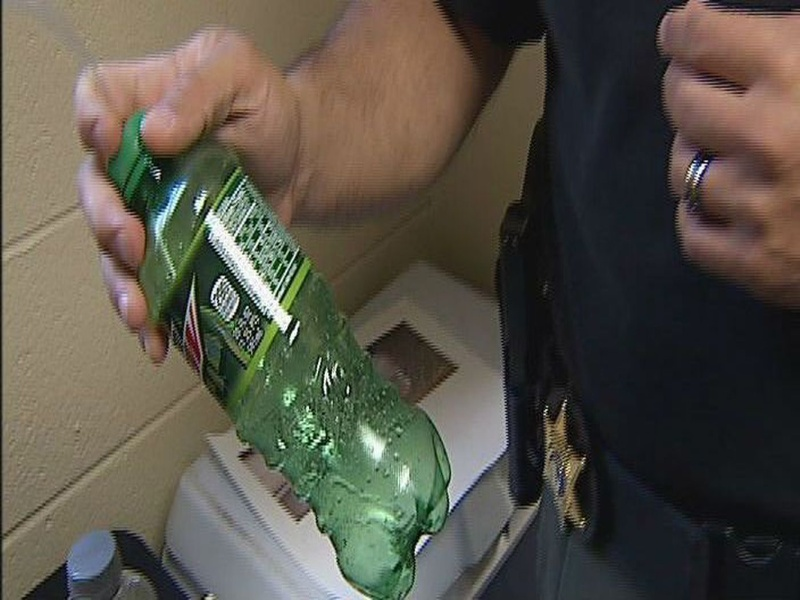Plastic bottle: (80, 104, 516, 599)
